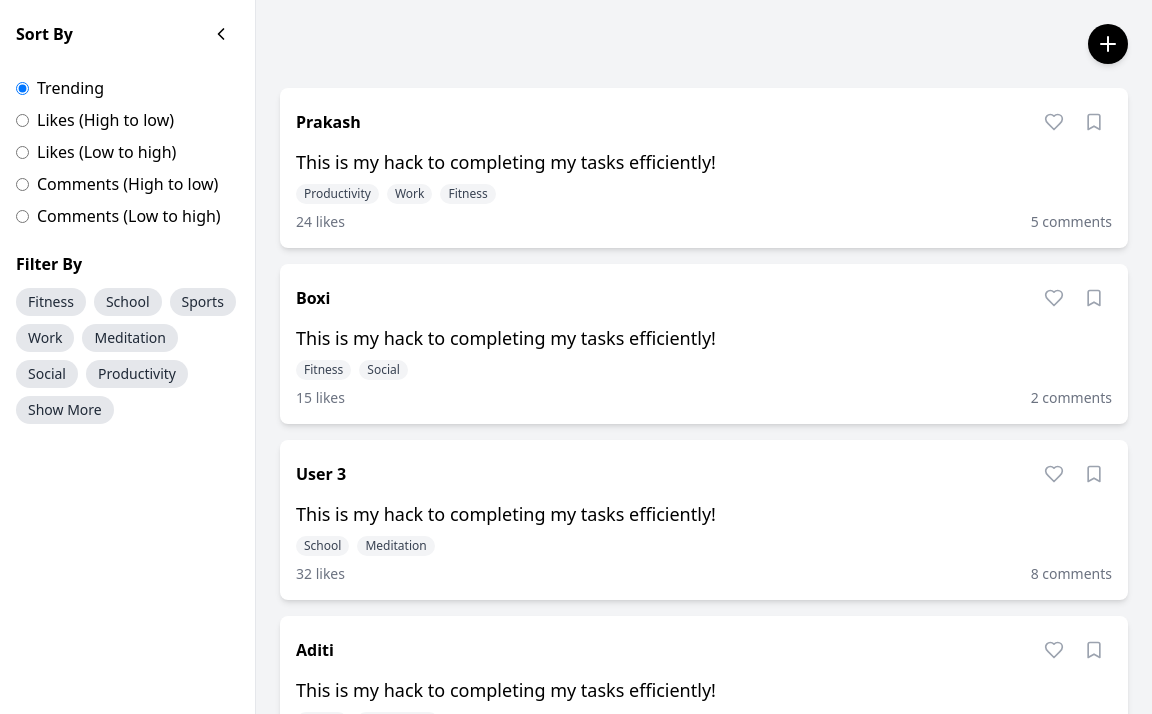
Test case: Community Component › shows and hides create post modal
Note: Find the Plus button by test id
Step 1. Click the button with test id "create-post-button" → [1108, 44], box [1088, 24, 1128, 64]
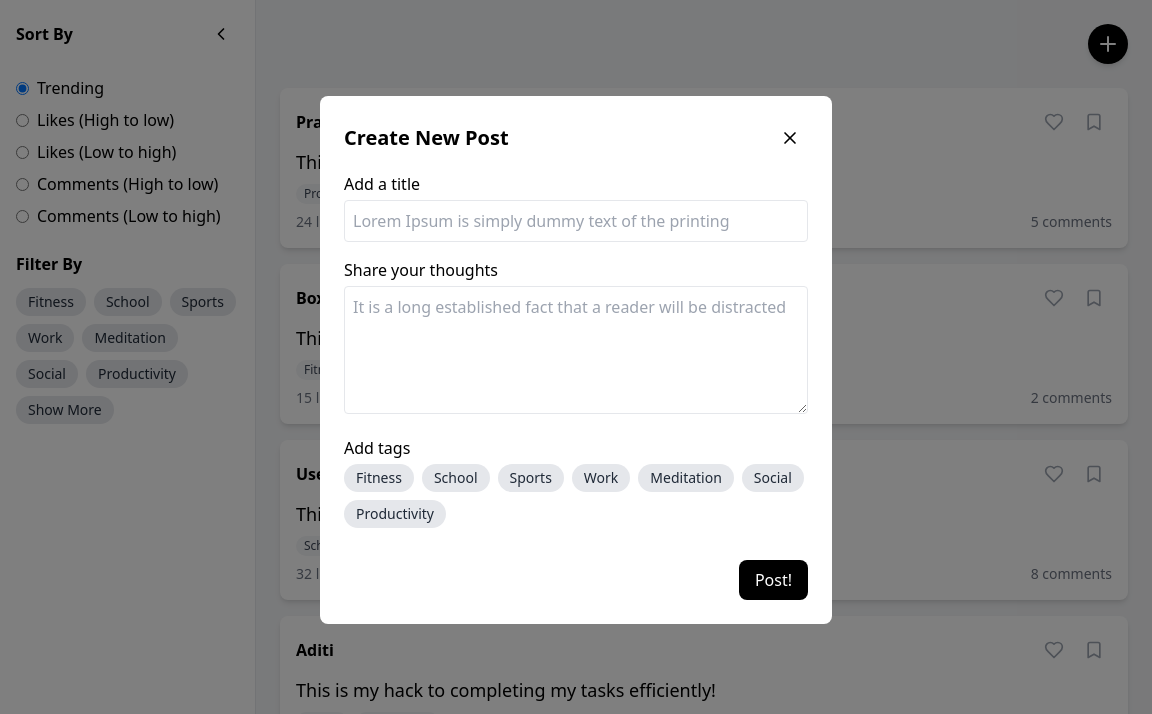
Result: the heading "Create New Post" is shown at [344, 124, 509, 152]
Result: the text "Add a title" is shown at [344, 173, 420, 195]
Note: Find the close button and click it
Step 2. Click the button with test id "close-modal-button" → [790, 138], box [772, 120, 808, 156]
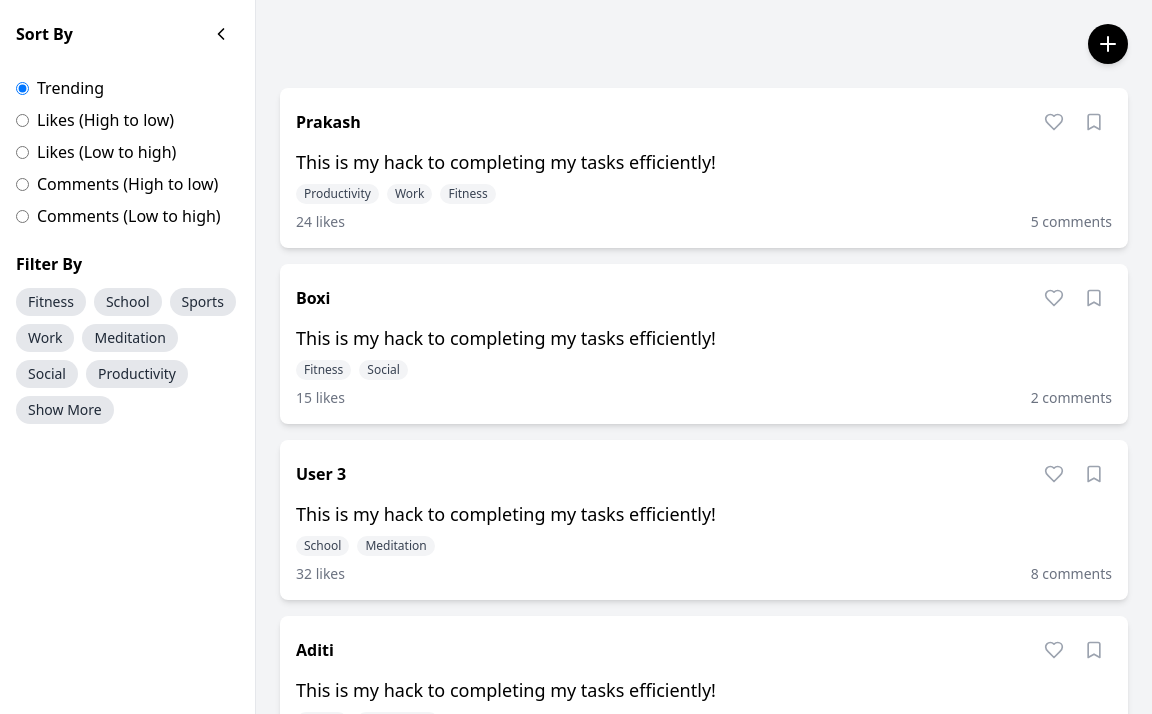
Result: the heading "Create New Post" is gone
